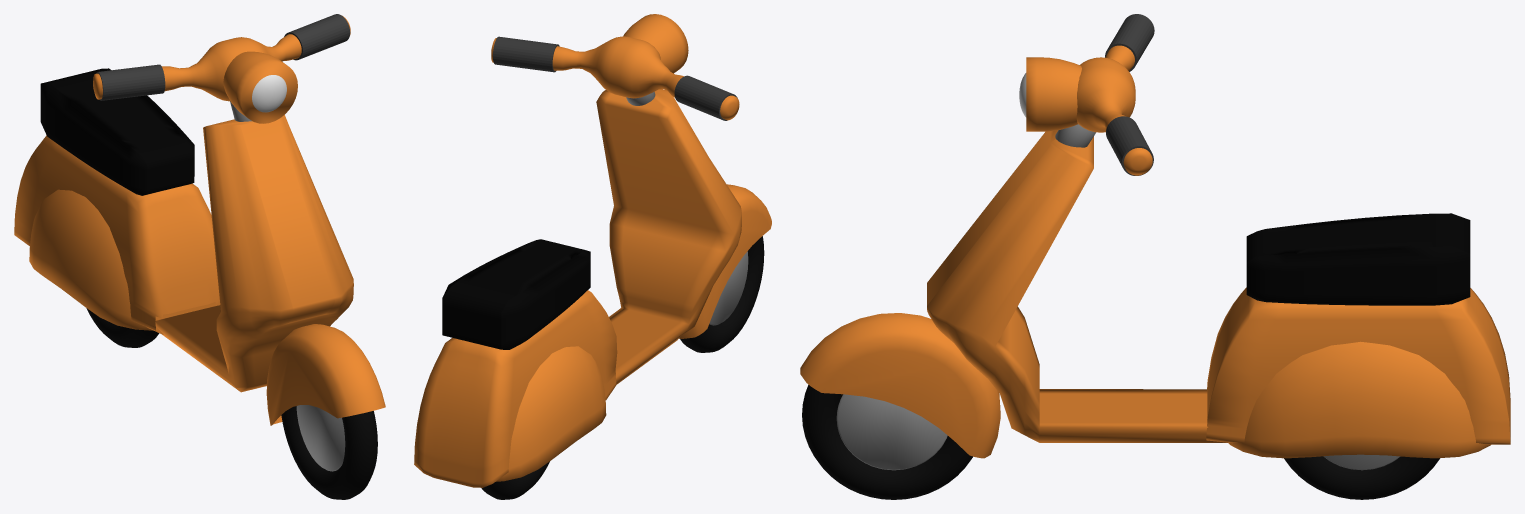
Rendered from player_asset_newnew.fbx.
3 renders of one model, left to right at view 1: azimuth 30°, elevation 25°; view 2: azimuth 150°, elevation 25°; view 3: azimuth 270°, elevation 25°, orthographic. The views are drawn at different scales.
Parts seen in each view (by area): view 1: Cylinder.001, Cylinder.004, Cylinder.003; view 2: Cylinder.001, Cylinder.003, Cylinder.004; view 3: Cylinder.001, Cylinder.004, Cylinder.003.
Boxes of the visible parts, x1,y1,x2,y2 form: Cylinder.001: (14, 68, 353, 392); Cylinder.004: (266, 324, 385, 499); Cylinder.003: (93, 14, 350, 123); Cylinder.001: (414, 89, 741, 499); Cylinder.003: (491, 14, 739, 120); Cylinder.004: (679, 184, 771, 352); Cylinder.001: (927, 124, 1510, 499); Cylinder.004: (800, 313, 1000, 499); Cylinder.003: (1019, 14, 1154, 175).
Bounding box in the file's own units: 444 × 656 × 966.
